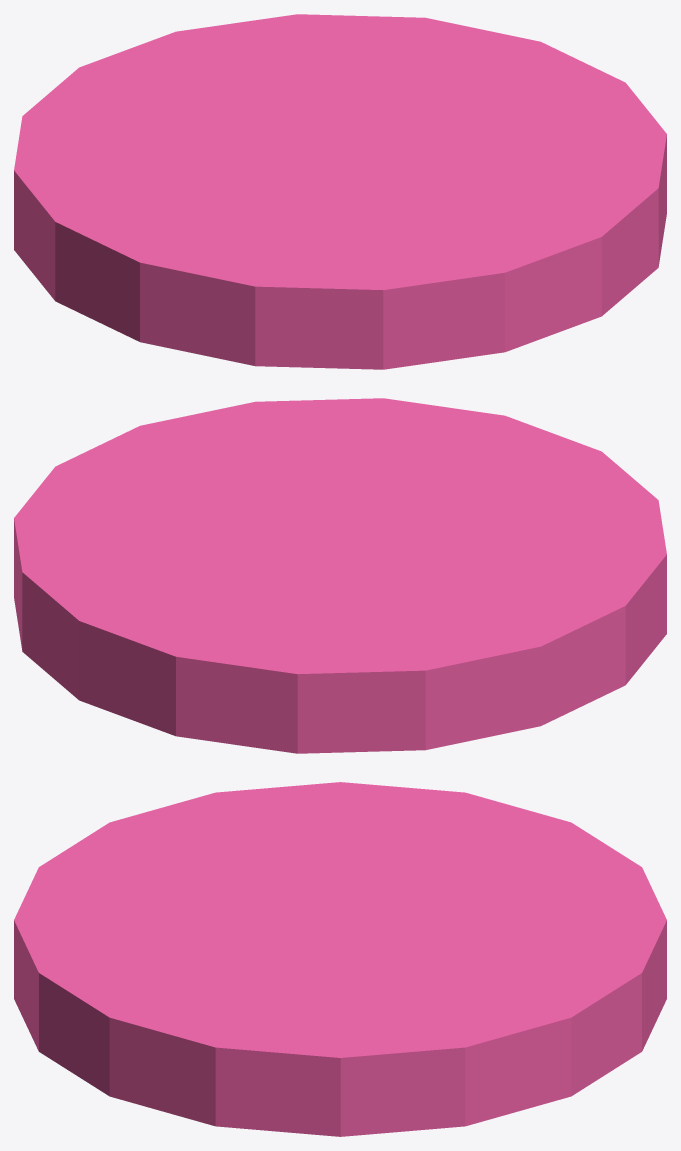
Rendered from petal-base.glb.
3 renders of one model, top to bottom at view 1: azimuth 30°, elevation 25°; view 2: azimuth 150°, elevation 25°; view 3: azimuth 270°, elevation 25°, orthographic.
Parts seen in each view (by area): view 1: 花びら形台座; view 2: 花びら形台座; view 3: 花びら形台座.
Boxes of the visible parts, x1,y1,x2,y2 form: 花びら形台座: [14, 14, 666, 369]; 花びら形台座: [14, 398, 666, 753]; 花びら形台座: [14, 782, 666, 1136].
Bounding box in the file's own units: 0.045 × 0.006 × 0.045.
